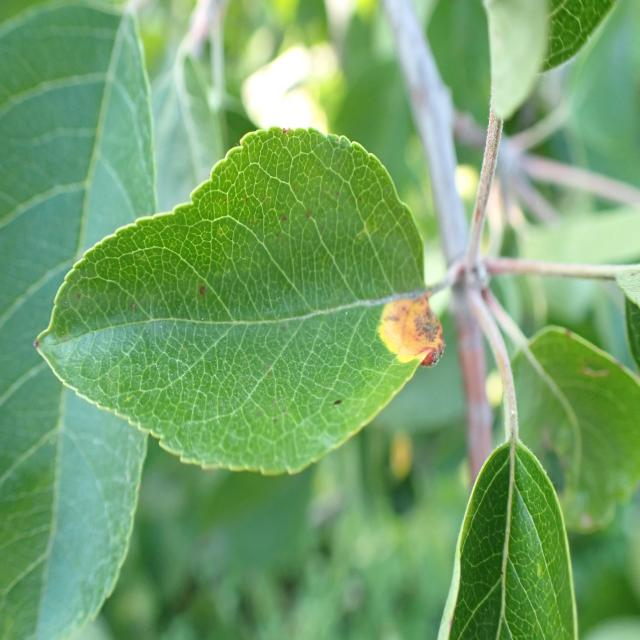Rust: (376, 272, 456, 391)
